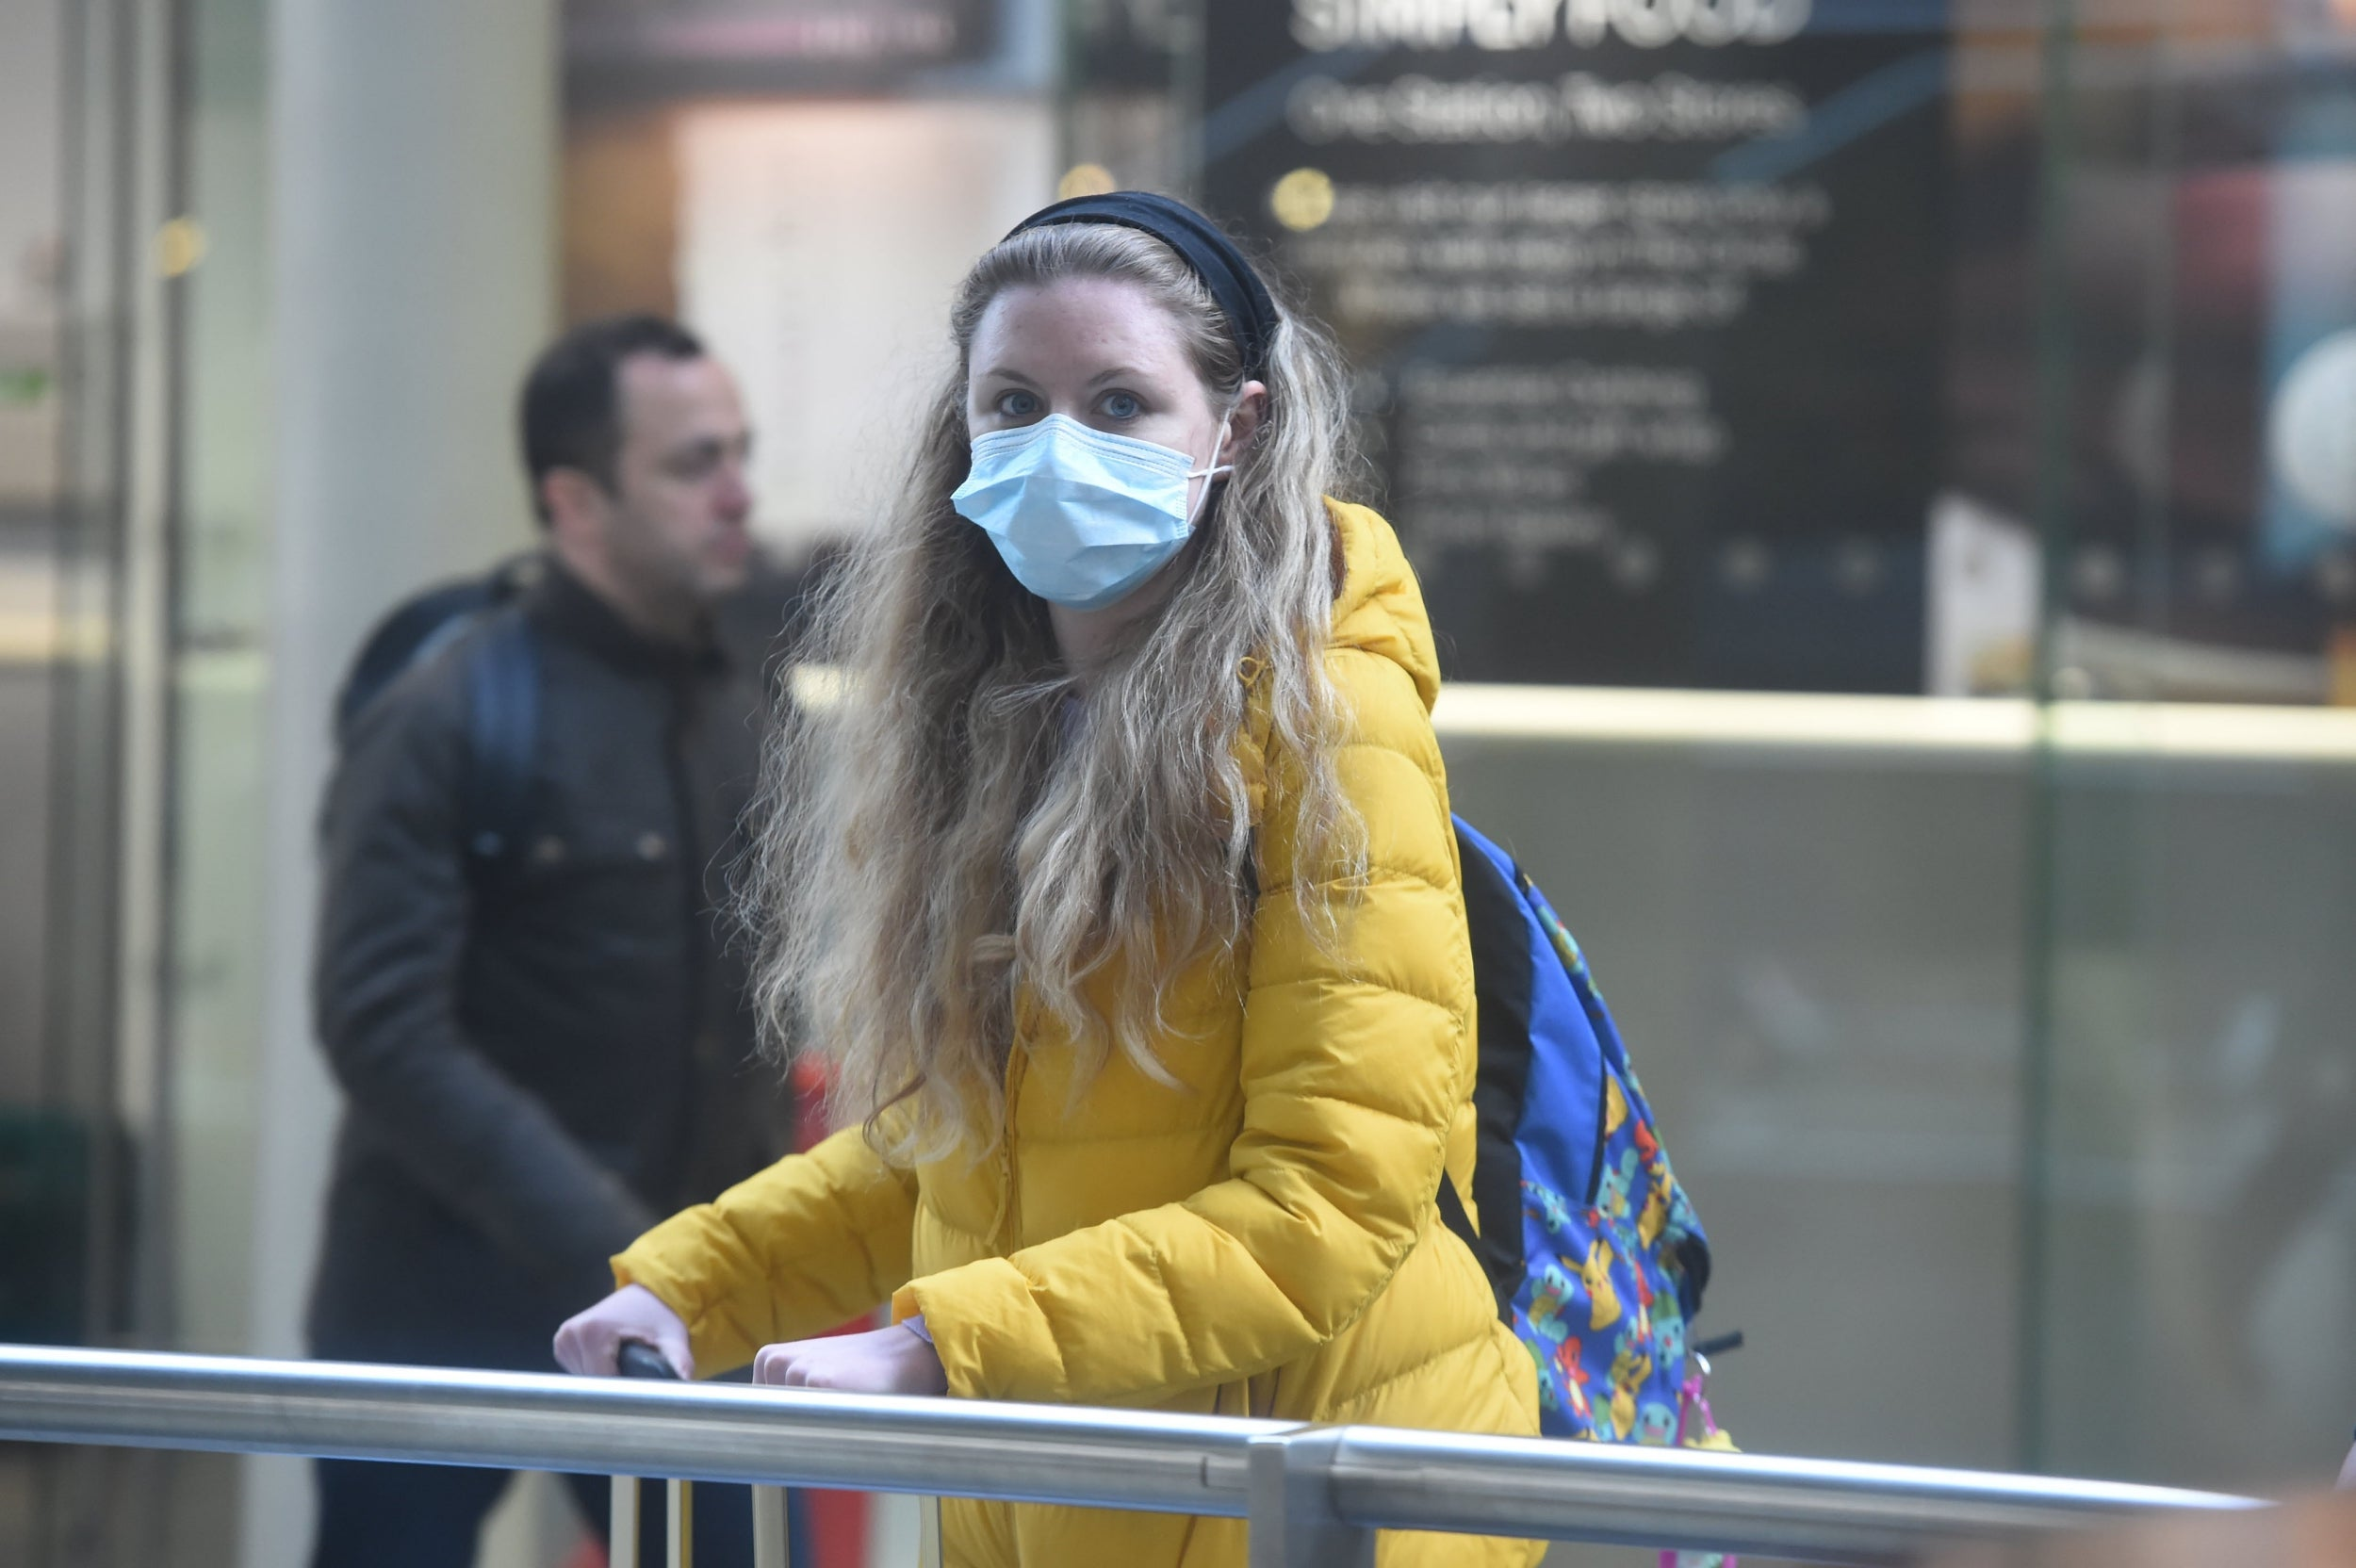surgical: (926, 410, 1212, 620)
